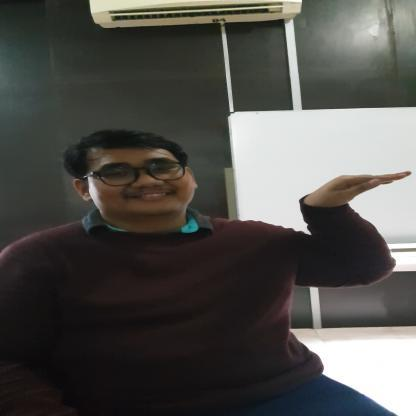Z: (290, 171, 412, 285)
